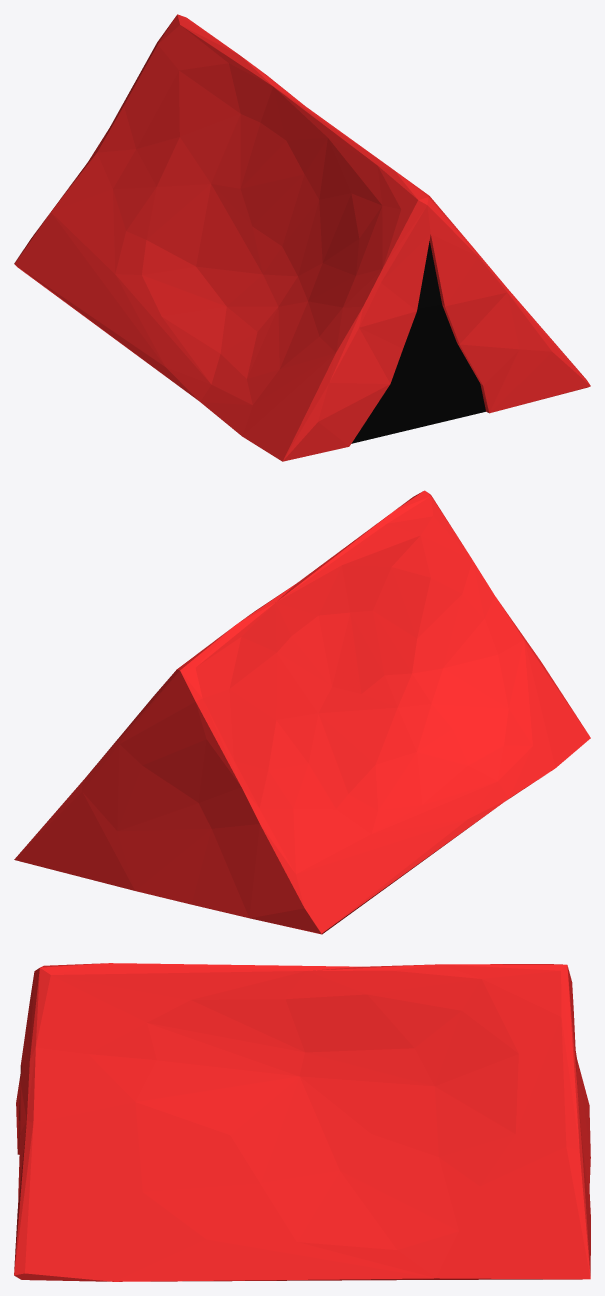
File: tent_c.FBX
The picture shows the model from 3 angles, top to bottom: view 1: azimuth 30°, elevation 25°; view 2: azimuth 150°, elevation 25°; view 3: azimuth 270°, elevation 25°; orthographic projection. The views are drawn at different scales.
Parts seen in each view (by area): view 1: tent_c; view 2: tent_c; view 3: tent_c.
Part boxes in pixels (x1,y1,x2,y2): tent_c: [14, 14, 590, 461]; tent_c: [14, 490, 590, 934]; tent_c: [14, 963, 590, 1281].
Size of the model in its own units: 3.49 by 2.4 by 5.23.
